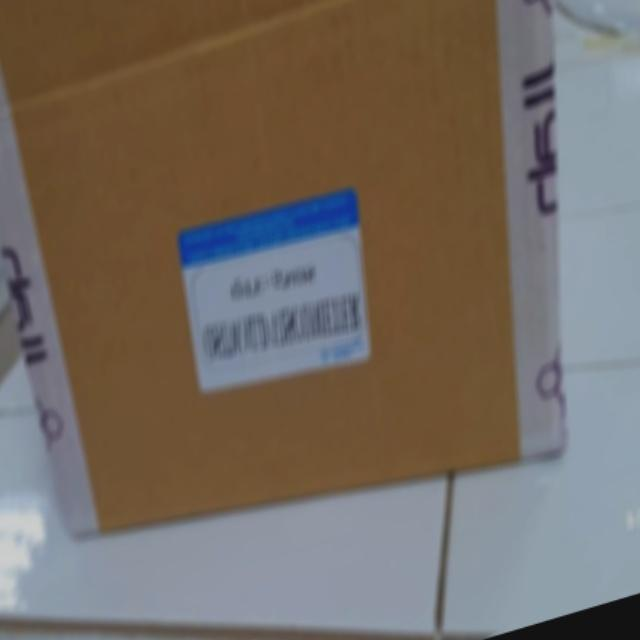Ostwald Viscometer: (16, 40, 568, 584)
